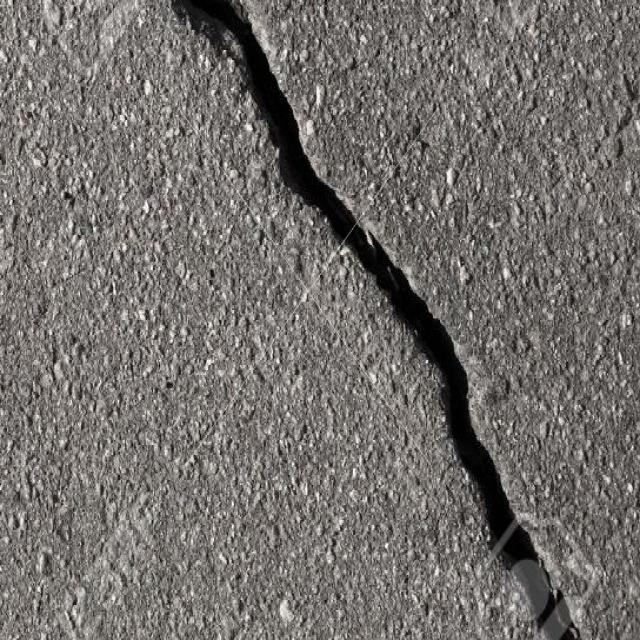crack: (168, 0, 404, 325), (406, 279, 583, 638)
